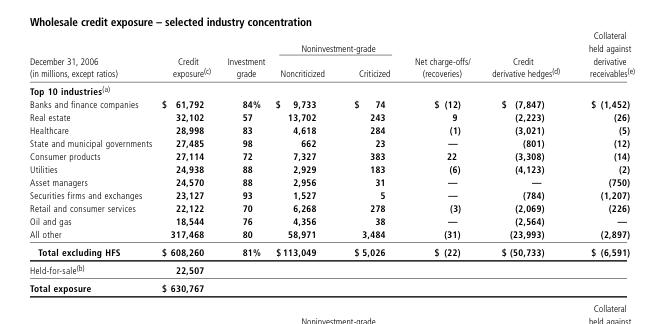table: (29, 29, 634, 293)
table column: (29, 29, 156, 293), (480, 29, 573, 293), (401, 29, 480, 293), (269, 29, 338, 293), (338, 29, 401, 293), (156, 29, 218, 293), (573, 29, 634, 293), (218, 29, 269, 293)
table column header: (29, 29, 634, 81)
table projected row header: (29, 81, 634, 97)
table row: (29, 29, 634, 60), (29, 60, 634, 81), (29, 259, 634, 278), (29, 242, 634, 259), (29, 81, 634, 97), (29, 227, 634, 242), (29, 278, 634, 293), (29, 97, 634, 110), (29, 110, 634, 123), (29, 123, 634, 136), (29, 136, 634, 149), (29, 149, 634, 162), (29, 162, 634, 175), (29, 175, 634, 188), (29, 188, 634, 201), (29, 201, 634, 214), (29, 214, 634, 227)
table spanning cell: (29, 29, 156, 81), (480, 29, 573, 81), (401, 29, 480, 81), (269, 29, 401, 60), (156, 29, 218, 81), (573, 29, 634, 81), (218, 29, 269, 81)
